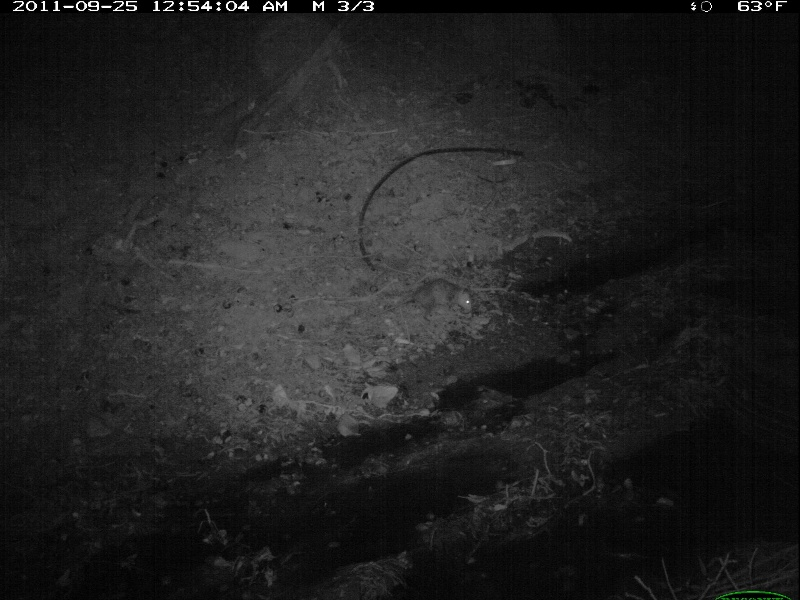opossum: (387, 278, 481, 318)
